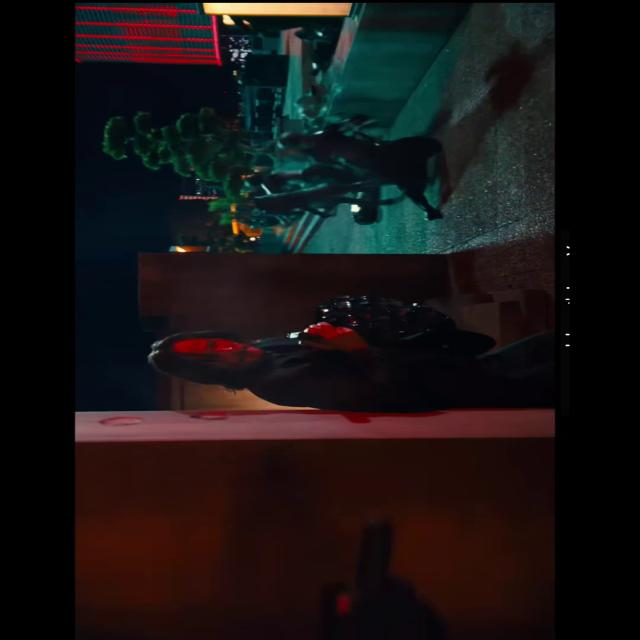weapons: (272, 316, 369, 358)
